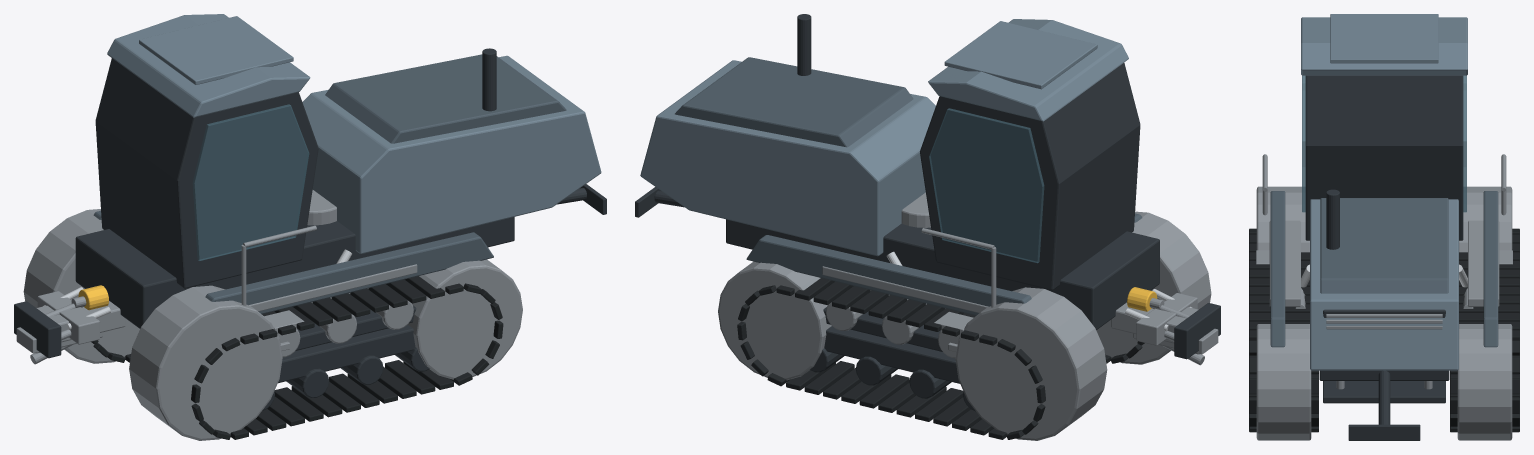
The model's file is fendt-1167-vario-mt-structural-study.glb.
3 views of the same model, side by side, from view 1: azimuth 30°, elevation 25°; view 2: azimuth 150°, elevation 25°; view 3: azimuth 270°, elevation 25° (orthographic). The views are drawn at different scales.
Parts seen in each view (by area): view 1: Cab_Structural_Shell, Power_Module_Profile, Track_R_Rear_Wheel, Cab_R_Corner_Glass, Hood_Top_Service_Cowl, Rigid_Main_Frame, Track_R_Front_Wheel, Cab_Roof_Profile, Track_Fender_R, Published_Height_Roof, Track_L_Rear_Wheel, Track_R_Frame (+15 smaller); view 2: Cab_Structural_Shell, Power_Module_Profile, Track_L_Rear_Wheel, Cab_L_Corner_Glass, Hood_Top_Service_Cowl, Rigid_Main_Frame, Track_L_Front_Wheel, Cab_Roof_Profile, Track_Fender_L, Published_Height_Roof, Track_R_Rear_Wheel, Track_L_Frame (+15 smaller); view 3: Cab_Structural_Shell, Power_Module_Profile, Hood_Top_Service_Cowl, Track_L_Front_Wheel, Track_R_Front_Wheel, Published_Height_Roof, Cab_Roof_Profile, Track_Fender_L, Track_Fender_R, Ground_Clearance_Crossmember, Track_L_Rear_Wheel, Track_R_Rear_Wheel (+16 smaller).
Boxes of the visible parts, box(x1,y1,x2,y2) form: Cab_Structural_Shell: box(95, 58, 318, 288); Power_Module_Profile: box(302, 55, 601, 253); Track_R_Rear_Wheel: box(129, 285, 282, 440); Cab_R_Corner_Glass: box(192, 104, 309, 260); Hood_Top_Service_Cowl: box(325, 54, 566, 143); Rigid_Main_Frame: box(75, 217, 514, 328); Track_R_Front_Wheel: box(408, 259, 522, 379); Cab_Roof_Profile: box(107, 14, 310, 117); Track_Fender_R: box(205, 232, 493, 314); Published_Height_Roof: box(139, 16, 293, 84); Track_L_Rear_Wheel: box(23, 209, 139, 363); Track_R_Frame: box(278, 324, 415, 383); Cab_Structural_Shell: box(920, 63, 1140, 290); Power_Module_Profile: box(640, 60, 935, 256); Track_L_Rear_Wheel: box(955, 287, 1107, 440); Cab_L_Corner_Glass: box(929, 108, 1044, 263); Hood_Top_Service_Cowl: box(675, 57, 913, 147); Rigid_Main_Frame: box(726, 219, 1159, 329); Track_L_Front_Wheel: box(718, 261, 831, 380); Cab_Roof_Profile: box(928, 19, 1128, 121); Track_Fender_L: box(746, 235, 1031, 315); Published_Height_Roof: box(944, 21, 1097, 89); Track_R_Rear_Wheel: box(1096, 211, 1211, 364); Track_L_Frame: box(824, 326, 959, 383); Cab_Structural_Shell: box(1305, 75, 1463, 240); Power_Module_Profile: box(1310, 199, 1458, 370); Hood_Top_Service_Cowl: box(1320, 198, 1448, 293); Track_L_Front_Wheel: box(1457, 324, 1512, 440); Track_R_Front_Wheel: box(1256, 324, 1311, 440); Published_Height_Roof: box(1330, 14, 1438, 63); Cab_Roof_Profile: box(1301, 17, 1467, 75); Track_Fender_L: box(1483, 191, 1498, 347); Track_Fender_R: box(1270, 191, 1285, 347); Ground_Clearance_Crossmember: box(1323, 381, 1445, 403); Track_L_Rear_Wheel: box(1459, 186, 1512, 252); Track_R_Rear_Wheel: box(1256, 186, 1309, 252).
Bounding box in the file's own units: 6.76 × 3.75 × 2.95.
